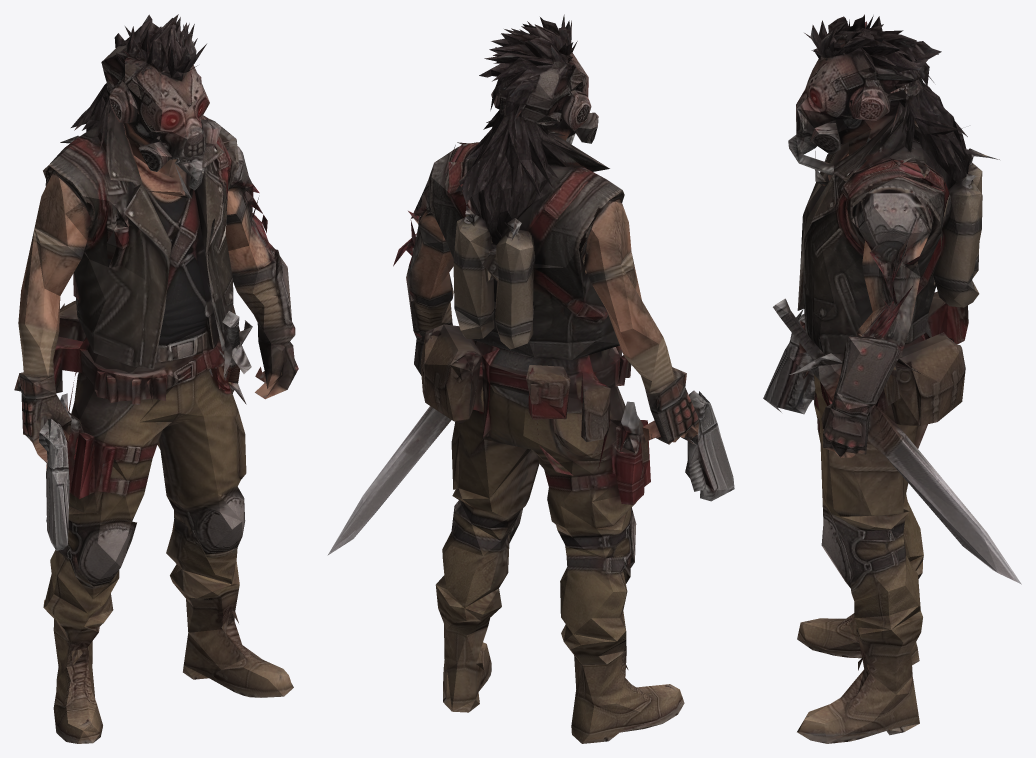
The model's file is Meshy_AI_Desert_Nomad_Yakub_Re_1017173032_texture.glb.
3 views of the same model, side by side, from view 1: azimuth 30°, elevation 25°; view 2: azimuth 150°, elevation 25°; view 3: azimuth 270°, elevation 25° (orthographic).
Parts seen in each view (by area): view 1: output_unwrapped; view 2: output_unwrapped; view 3: output_unwrapped.
Boxes of the visible parts, bbox=[...] form: output_unwrapped: bbox=[14, 14, 298, 743]; output_unwrapped: bbox=[327, 14, 734, 743]; output_unwrapped: bbox=[763, 14, 1021, 743].
Bounding box in the file's own units: 0.8198 × 1.88 × 0.6525.
Materials: 1 (1 with a texture image).
